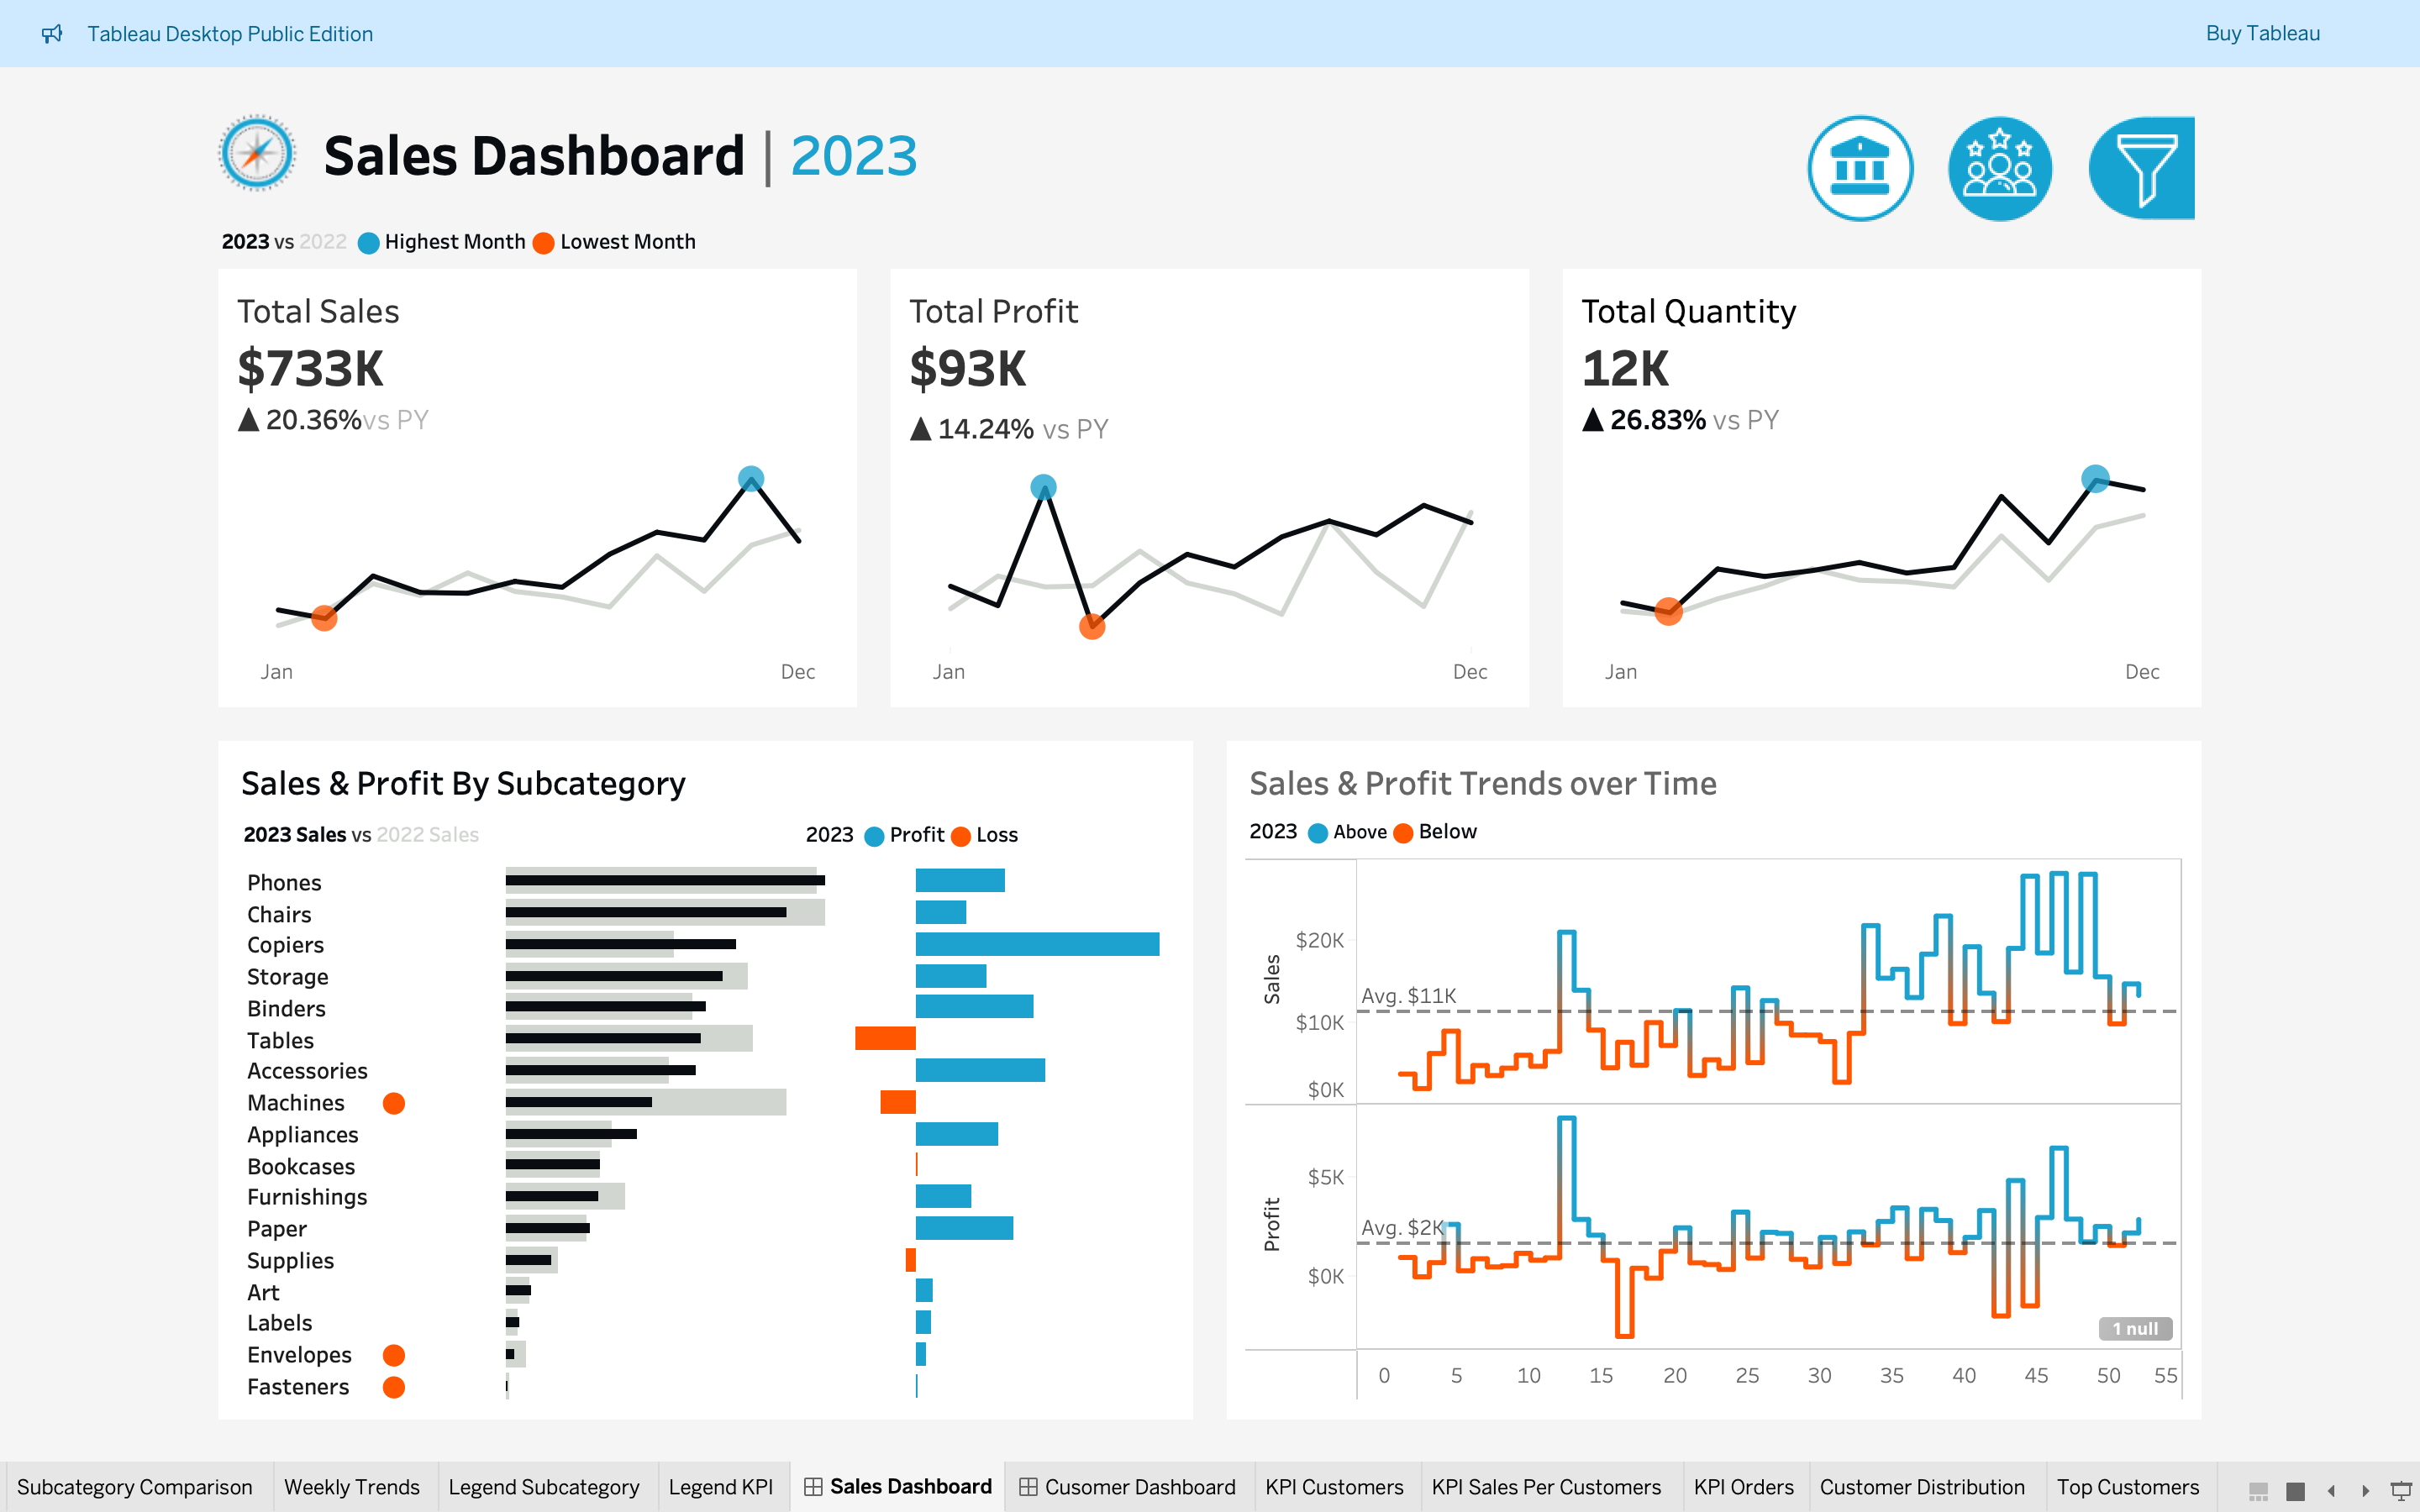

The page's visual inventory and layout, read from the dashboard file:
{"tool":"tableau","page":{"name":"Sales Dashboard","canvas":[1200,800],"ordinal":1},"visuals":[{"type":"image","param":"Image/Icon - Logo.png","box":[0,0,66,73]},{"type":"text","box":[66,0,807,73]},{"type":"blank","box":[946,1,249,90]},{"type":"dashboard-object","box":[946,9,83,73]},{"type":"dashboard-object","box":[1029,9,83,73]},{"type":"dashboard-object","box":[1112,9,83,73]},{"type":"worksheet","title":"Legend KPI","mark":"Automatic","box":[0,73,1200,32]},{"type":"text","box":[946,91,249,50]},{"type":"worksheet","title":"KPI Sales","mark":"Automatic","rows":["Calculation_4468696732098543616"],"cols":["Order Date"],"box":[0,105,400,271]},{"type":"worksheet","title":"KPI Profit","mark":"Automatic","rows":["Calculation_3791749413150191617"],"cols":["Order Date"],"box":[400,105,400,271]},{"type":"worksheet","title":"KPI Quantity","mark":"Automatic","rows":["Calculation_3176585851607392256"],"cols":["Order Date"],"box":[800,105,400,271]},{"type":"parameter","param":"[Parameters].[Parameter 1]","box":[946,141,249,52]},{"type":"blank","box":[946,193,249,32]},{"type":"text","box":[946,225,249,53]},{"type":"filter","title":"KPI Sales","param":"[federated.1y9017q1dy0q4m17bg3la153tcdy].[none:Category:nk]","box":[946,278,249,52]},{"type":"filter","title":"KPI Sales","param":"[federated.1y9017q1dy0q4m17bg3la153tcdy].[none:Sub-Category:nk]","box":[946,330,249,52]},{"type":"blank","box":[946,382,249,32]},{"type":"text","box":[17,393,566,34]},{"type":"text","box":[617,393,566,34]},{"type":"text","box":[946,414,249,29]},{"type":"worksheet","title":"Legend Subcategory","mark":"Automatic","box":[17,427,336,29]},{"type":"text","box":[353,427,230,29]},{"type":"text","box":[617,427,566,25]},{"type":"filter","title":"KPI Sales","param":"[federated.1y9017q1dy0q4m17bg3la153tcdy].[none:Region:nk]","box":[946,443,249,52]},{"type":"worksheet","title":"Weekly Trends","mark":"Automatic","rows":["Calculation_3812085980025712640","Calculation_622552281608544258"],"cols":["Order Date"],"box":[617,452,566,331]},{"type":"worksheet","title":"Subcategory Comparison","mark":"Bar","rows":["Sub-Category","Calculation_6335157302788915200"],"cols":["Calculation_3812085980026093569","Calculation_3812085980025712640","Calculation_622552281608544258"],"box":[17,456,566,326.9]},{"type":"filter","title":"KPI Sales","param":"[federated.1y9017q1dy0q4m17bg3la153tcdy].[none:State:nk]","box":[946,495,249,52]},{"type":"filter","title":"KPI Sales","param":"[federated.1y9017q1dy0q4m17bg3la153tcdy].[none:City:nk]","box":[946,547,249,52]}]}

Visuals, with their boxes on the page's 1200x800 design canvas (x1, y1, x2, y2). These are canvas units, not pixel positions in the 2420x1512 screenshot, which may show the page scaled, cropped or inside an application window:
image: detection(0, 0, 66, 73)
text: detection(66, 0, 873, 73)
blank: detection(946, 1, 1195, 91)
dashboard-object: detection(946, 9, 1029, 82)
dashboard-object: detection(1029, 9, 1112, 82)
dashboard-object: detection(1112, 9, 1195, 82)
"Legend KPI" worksheet: detection(0, 73, 1200, 105)
text: detection(946, 91, 1195, 141)
"KPI Sales" worksheet: detection(0, 105, 400, 376)
"KPI Profit" worksheet: detection(400, 105, 800, 376)
"KPI Quantity" worksheet: detection(800, 105, 1200, 376)
parameter: detection(946, 141, 1195, 193)
blank: detection(946, 193, 1195, 225)
text: detection(946, 225, 1195, 278)
"KPI Sales" filter: detection(946, 278, 1195, 330)
"KPI Sales" filter: detection(946, 330, 1195, 382)
blank: detection(946, 382, 1195, 414)
text: detection(17, 393, 583, 427)
text: detection(617, 393, 1183, 427)
text: detection(946, 414, 1195, 443)
"Legend Subcategory" worksheet: detection(17, 427, 353, 456)
text: detection(353, 427, 583, 456)
text: detection(617, 427, 1183, 452)
"KPI Sales" filter: detection(946, 443, 1195, 495)
"Weekly Trends" worksheet: detection(617, 452, 1183, 783)
"Subcategory Comparison" worksheet (Bar marks): detection(17, 456, 583, 783)
"KPI Sales" filter: detection(946, 495, 1195, 547)
"KPI Sales" filter: detection(946, 547, 1195, 599)
